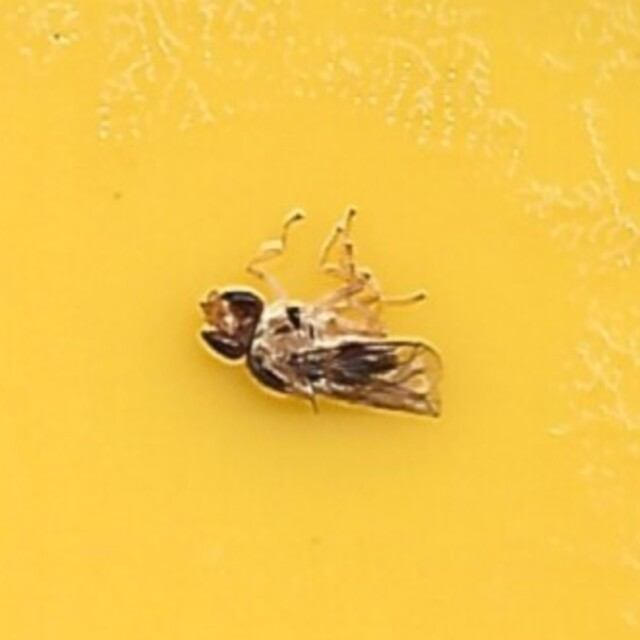Brachycera: (193, 216, 447, 424)
